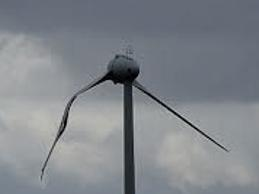faulty: (43, 53, 149, 163)
